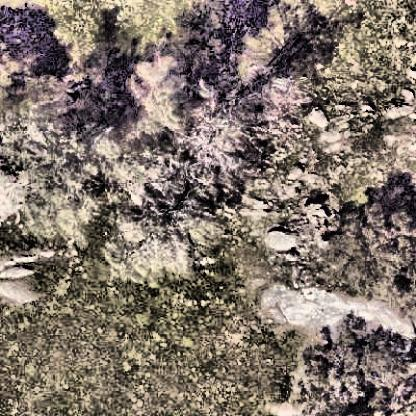tree-top: (320, 183, 416, 312), (308, 319, 416, 416), (20, 158, 114, 257), (114, 205, 215, 286), (127, 143, 228, 214), (196, 84, 269, 165), (1, 89, 70, 172), (131, 49, 193, 136)
